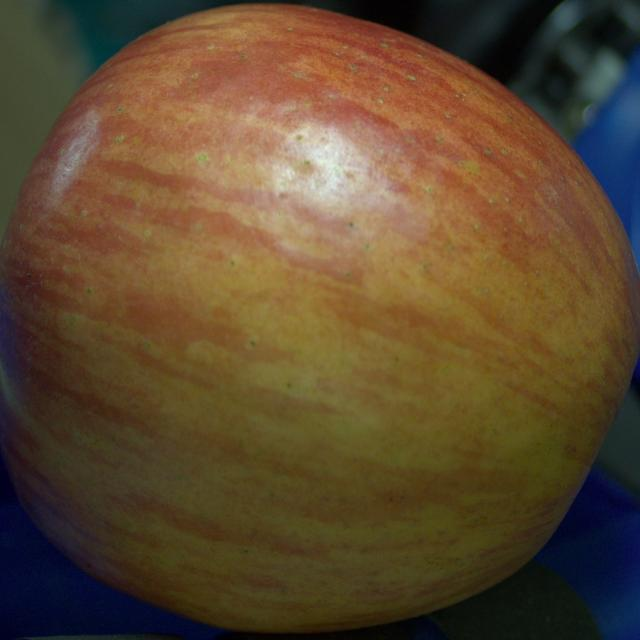apple: (0, 5, 639, 632)
